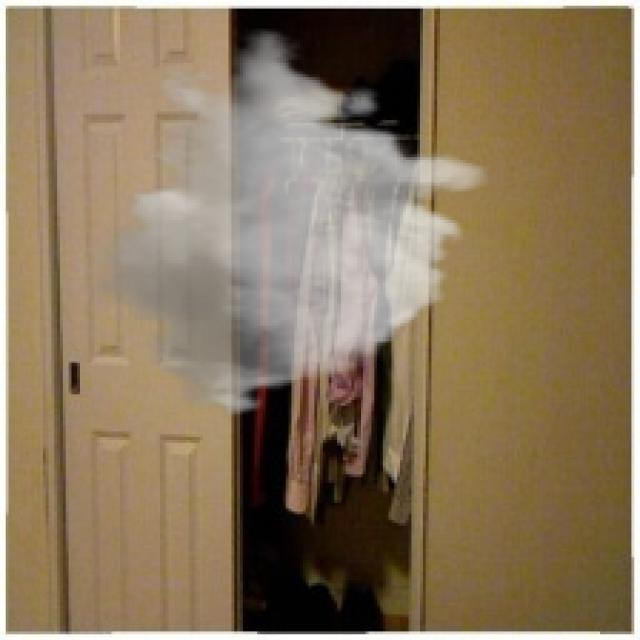smoke: (83, 29, 494, 420)
